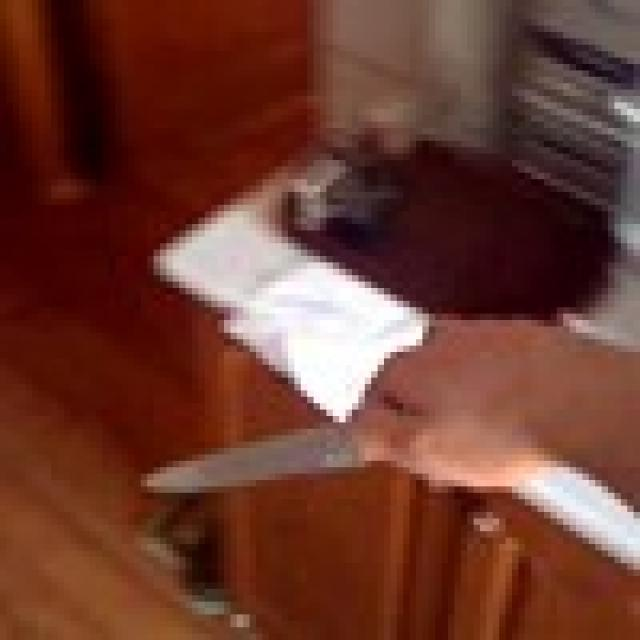knife: (141, 404, 391, 519)
